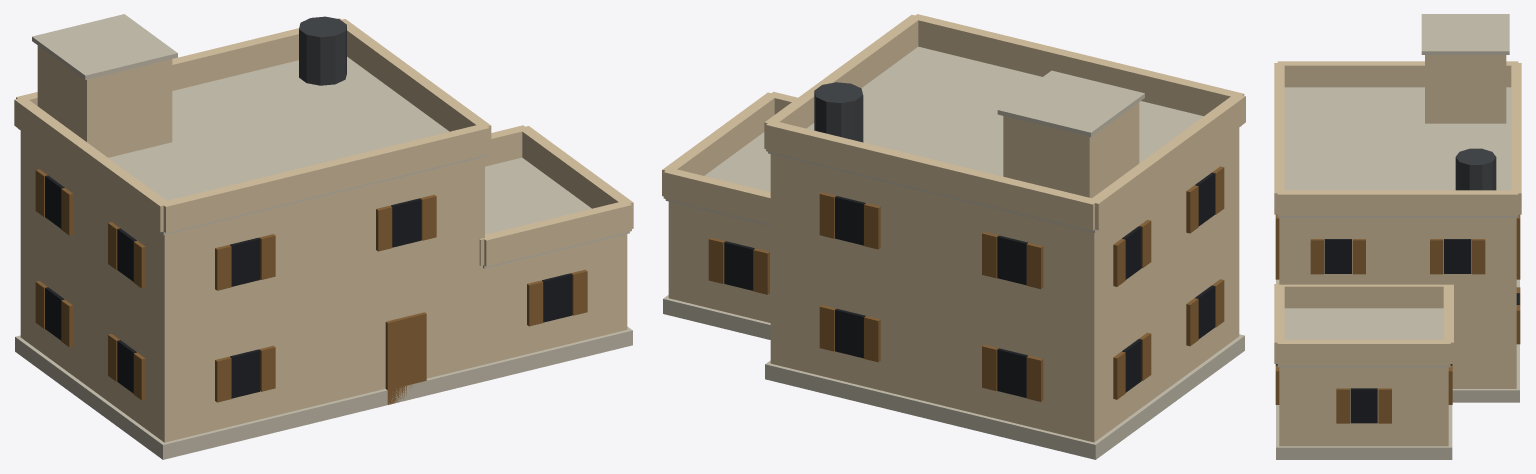
Rendered from a14_house_3.glb.
3 views of the same model, side by side, from view 1: azimuth 30°, elevation 25°; view 2: azimuth 150°, elevation 25°; view 3: azimuth 270°, elevation 25° (orthographic). The views are drawn at different scales.
Parts seen in each view (by area): view 1: body; view 2: body; view 3: body.
Part boxes in pixels (box(x1,y1,x2,y2)): body: box(14, 14, 633, 459); body: box(662, 14, 1245, 459); body: box(1274, 14, 1521, 459).
Size of the model in its own units: 1 by 0.6398 by 0.5489.
